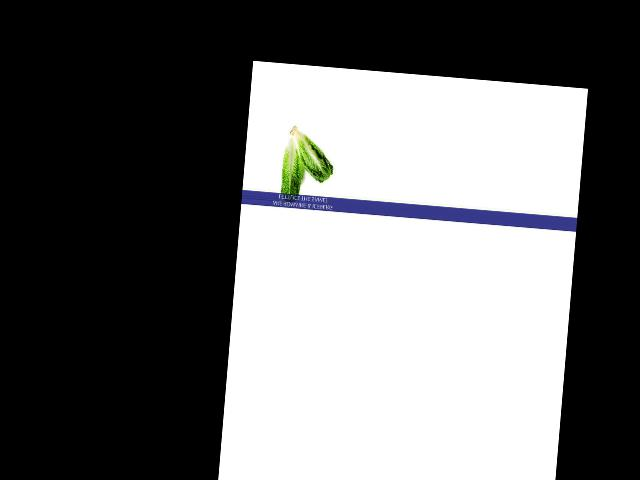lettuce: (283, 125, 335, 188)
